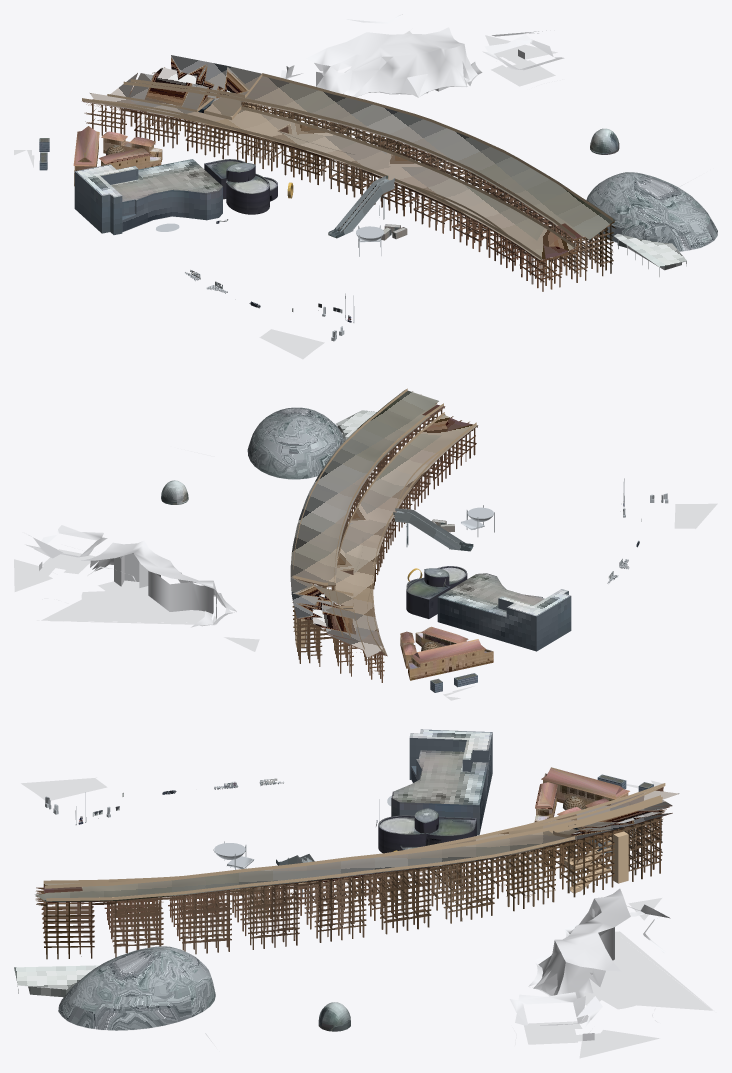
3 views of the same model, one above another, from view 1: azimuth 30°, elevation 25°; view 2: azimuth 150°, elevation 25°; view 3: azimuth 270°, elevation 25° (orthographic). The views are drawn at different scales.
Visible parts, largest first — view 1: GrandRoofRing_大屋根リング, Buildings_建物パビリオン, Facilities_都市設備; view 2: Buildings_建物パビリオン, GrandRoofRing_大屋根リング, Facilities_都市設備; view 3: GrandRoofRing_大屋根リング, Buildings_建物パビリオン, Facilities_都市設備.
Boxes of the visible parts, x1,y1,x2,y2 form: GrandRoofRing_大屋根リング: [82, 55, 616, 291]; Buildings_建物パビリオン: [14, 14, 717, 359]; Facilities_都市設備: [106, 144, 383, 341]; Buildings_建物パビリオン: [14, 407, 717, 700]; GrandRoofRing_大屋根リング: [290, 388, 477, 682]; Facilities_都市設備: [407, 478, 668, 651]; GrandRoofRing_大屋根リング: [35, 783, 679, 959]; Buildings_建物パビリオン: [14, 729, 713, 1058]; Facilities_都市設備: [45, 778, 585, 869].
Size of the model in its own units: 219 by 24.47 by 226.
Materials: 31 (28 with a texture image).
